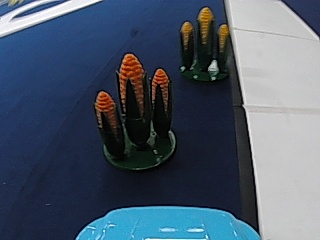corn: (93, 50, 179, 169), (175, 7, 231, 83)
